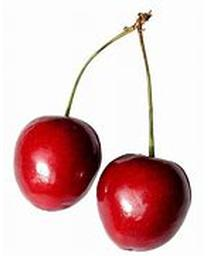cherry: (97, 152, 192, 251), (13, 116, 102, 212)
